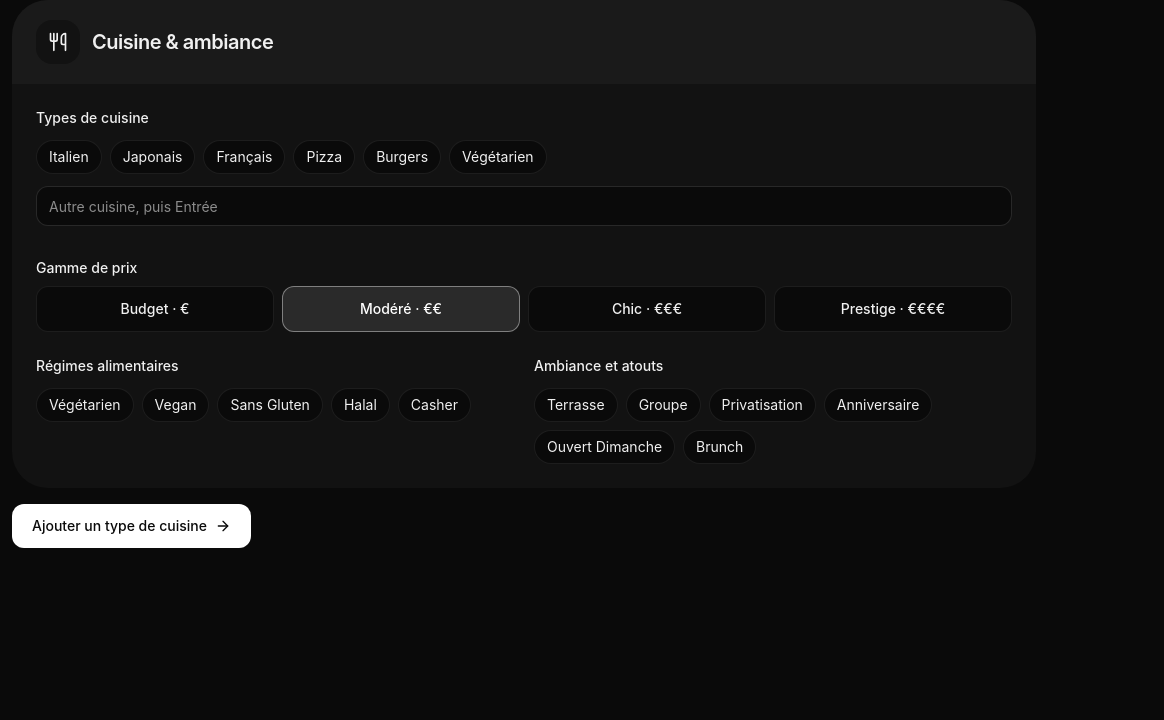
Test: ouvre directement le formulaire et bloque la suite sans cuisine renseignée
This screenshot has width=1164, height=720.
Expected: the button "Italien" is shown, [36,140,102,174]
Step 1. Click the button "Ajouter un type de cuisine" → (132, 526), box [12,504,251,548]
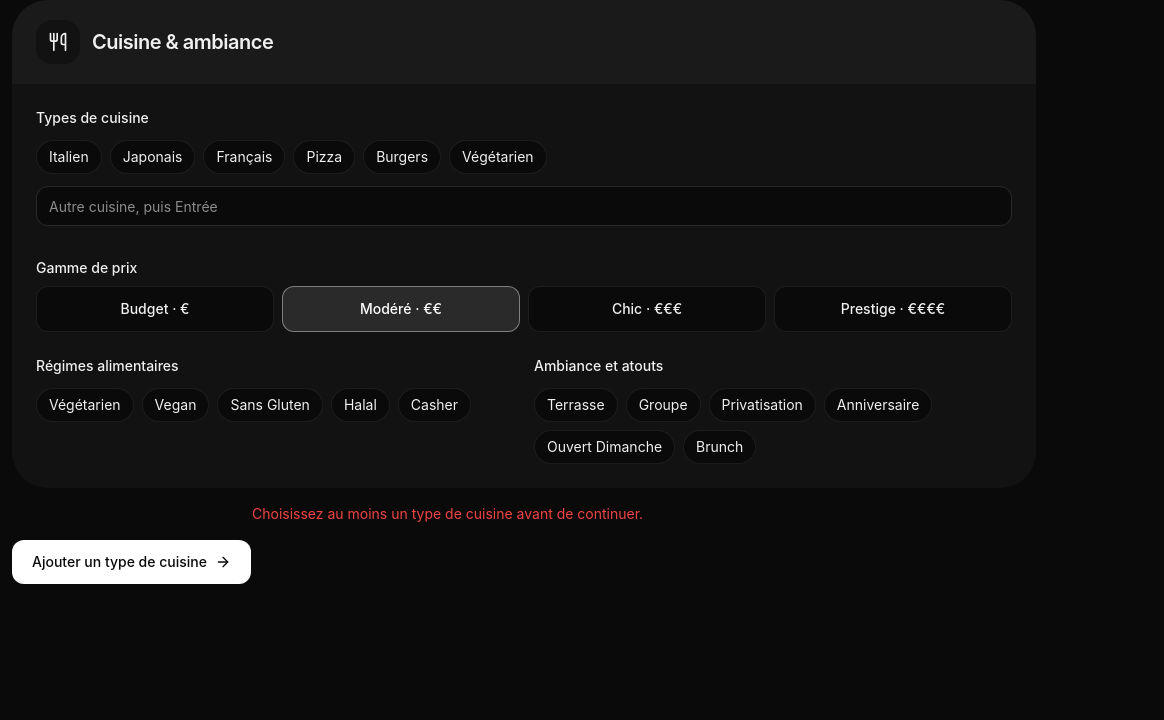
Expected: the message shows "Choisissez au moins un type de cuisine", [252,505,643,522]
